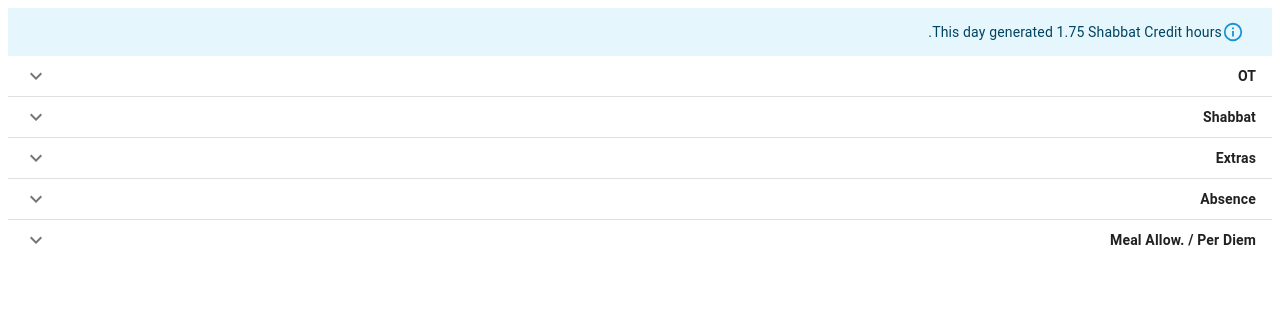
Test: DayCardDetails › renders each breakdown group as its own, independently collapsible section
The image size is (1280, 318).
Click the button "OT" at (1247, 76), box [8,56,1272,96]
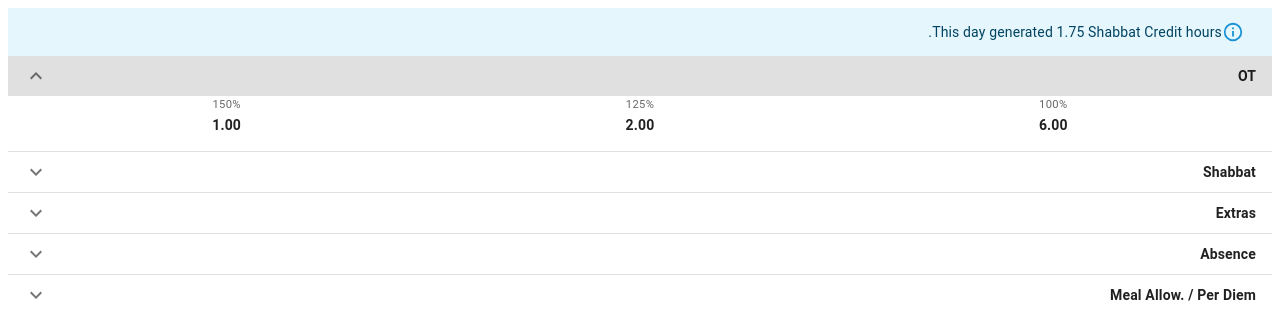
expect the button "OT" is expanded: met, box [8,56,1272,96]
